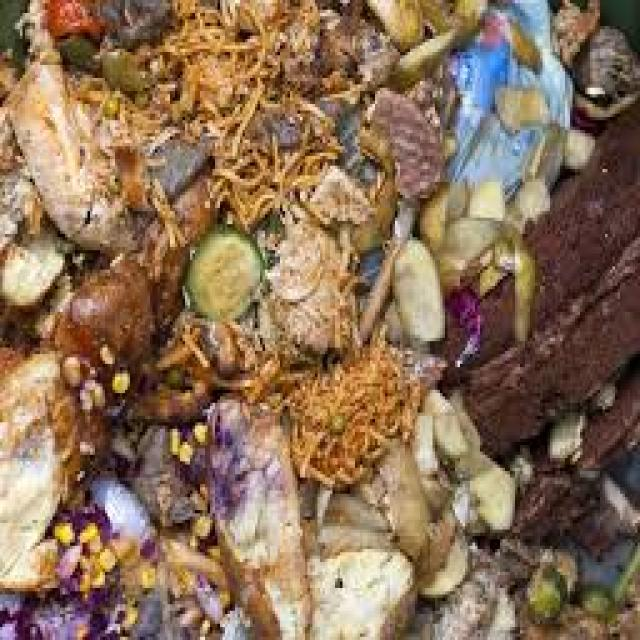Wet: (202, 22, 265, 141), (186, 222, 262, 319)
